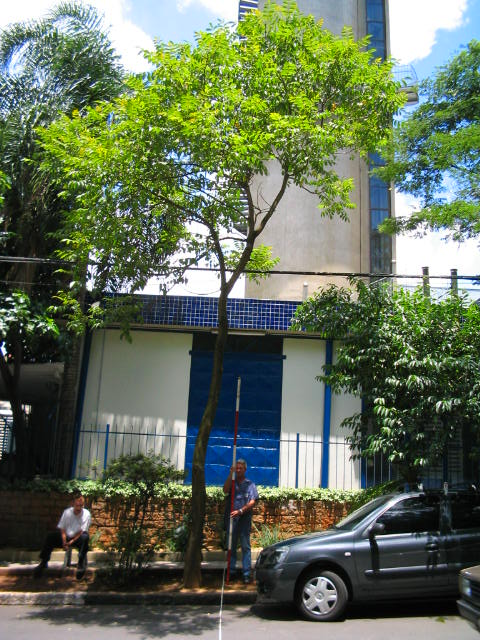crown: (25, 3, 405, 288)
stem: (177, 301, 229, 587)
stick: (223, 377, 244, 584)
tree: (23, 2, 408, 588)
